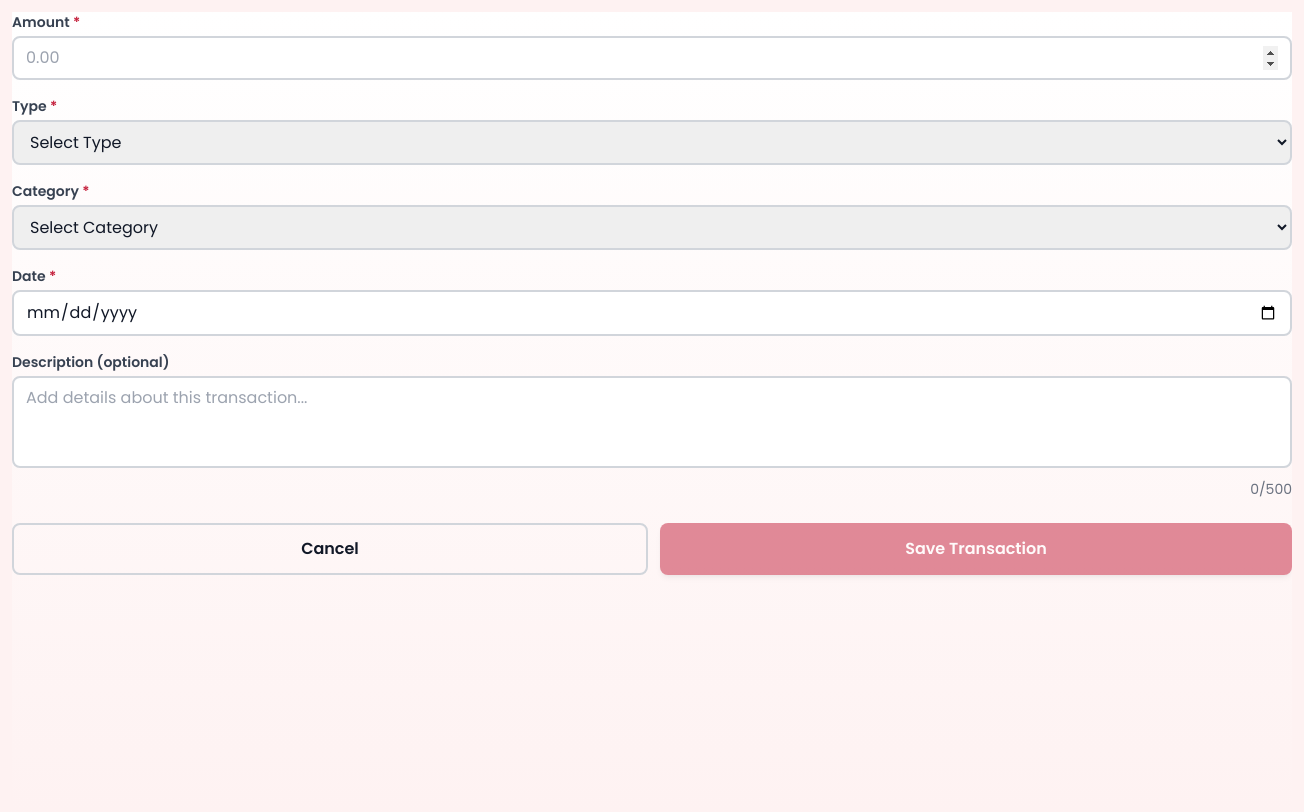
Test: TransactionForm › should enable submit button when form is valid
This screenshot has width=1304, height=812.
Fill amount
In the number field labelled "Amount *": (652, 58) left=12, top=36, right=1292, bottom=80, type "50.00"
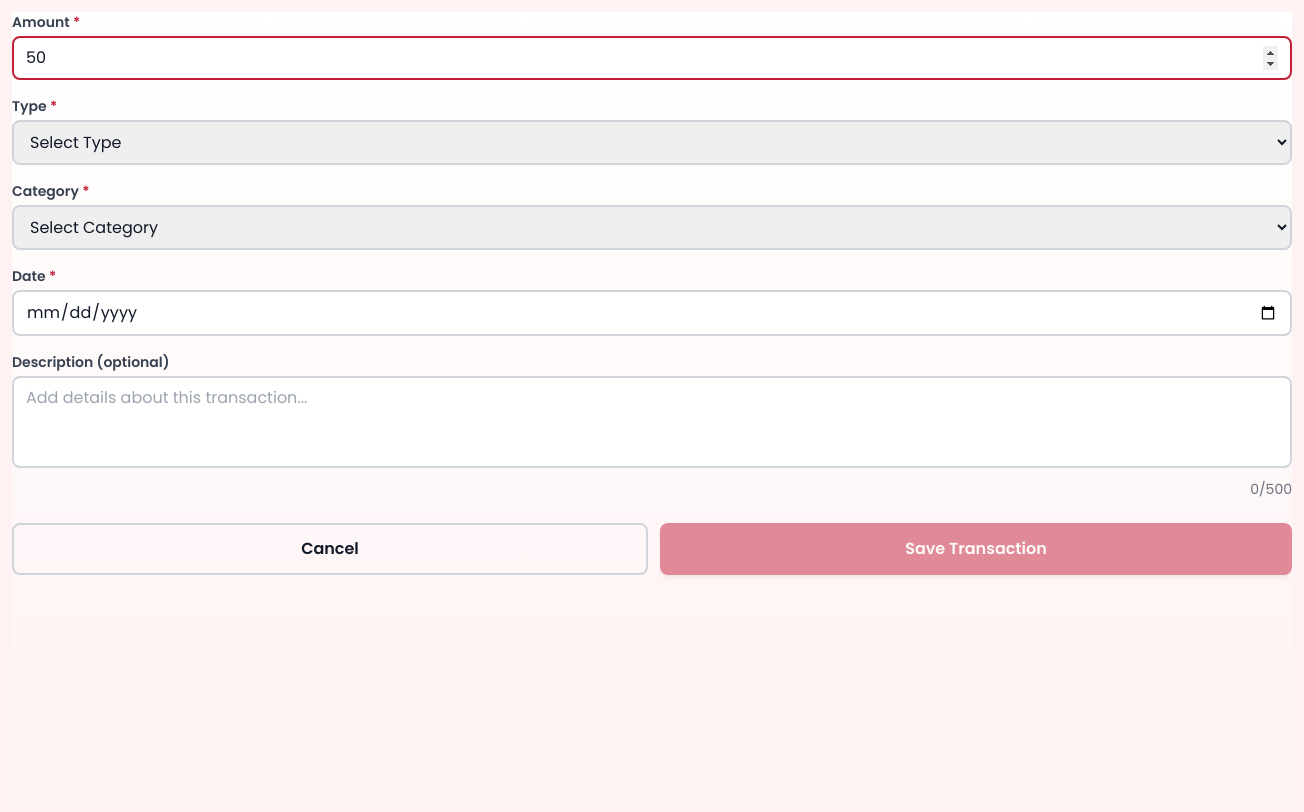
Select type
Select "Expense" in the dropdown labelled "Type *": (652, 142) left=12, top=120, right=1292, bottom=165
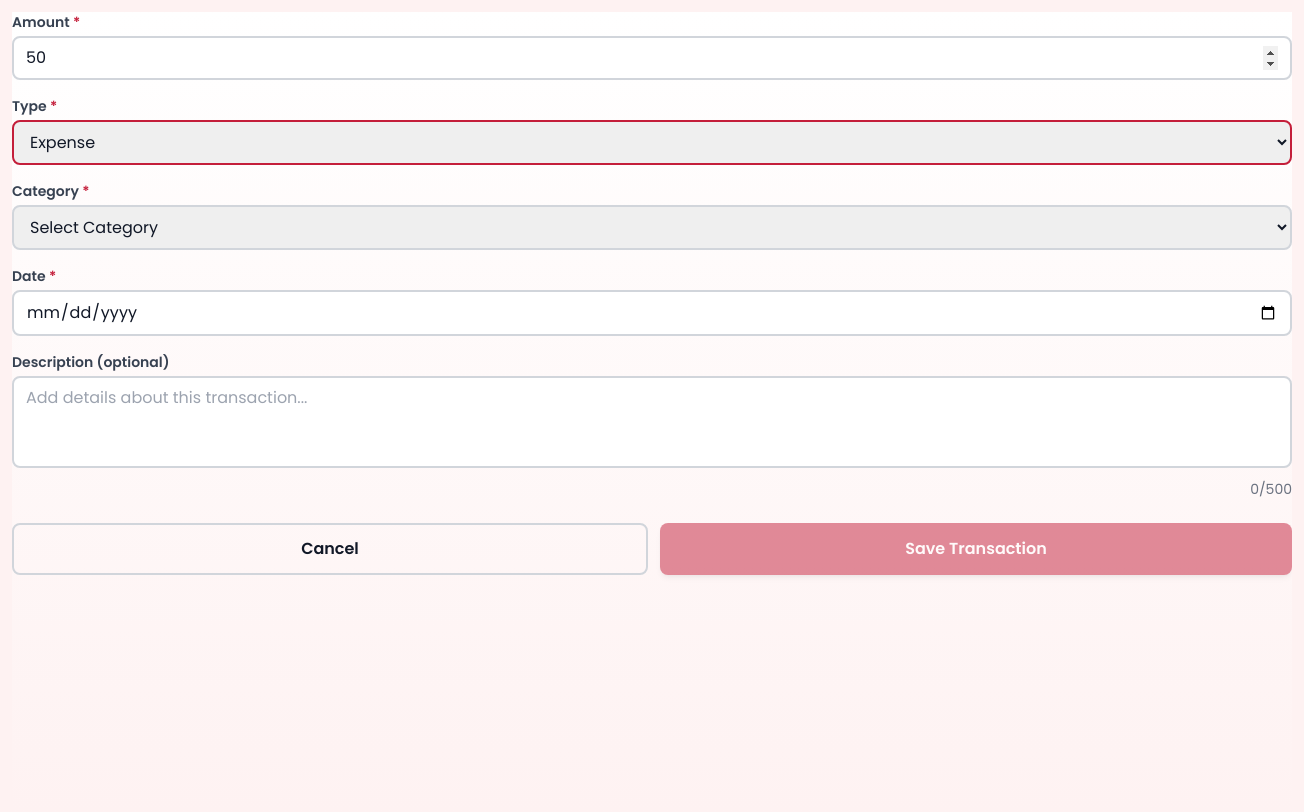
Select category
Select "Gifts" in the dropdown labelled "Category *": (652, 228) left=12, top=205, right=1292, bottom=250
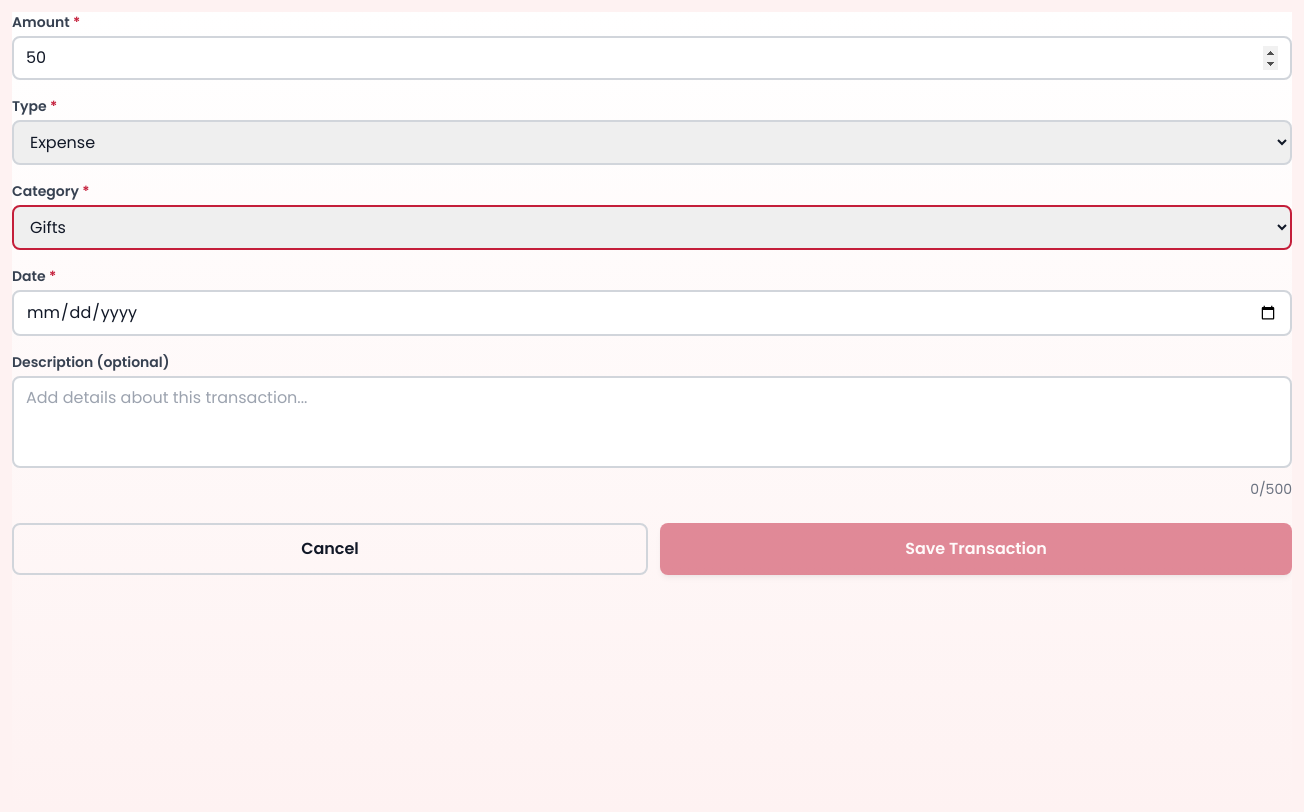
Select date
In the date field labelled "Date *": (652, 313) left=12, top=290, right=1292, bottom=336, type "2025-12-25"
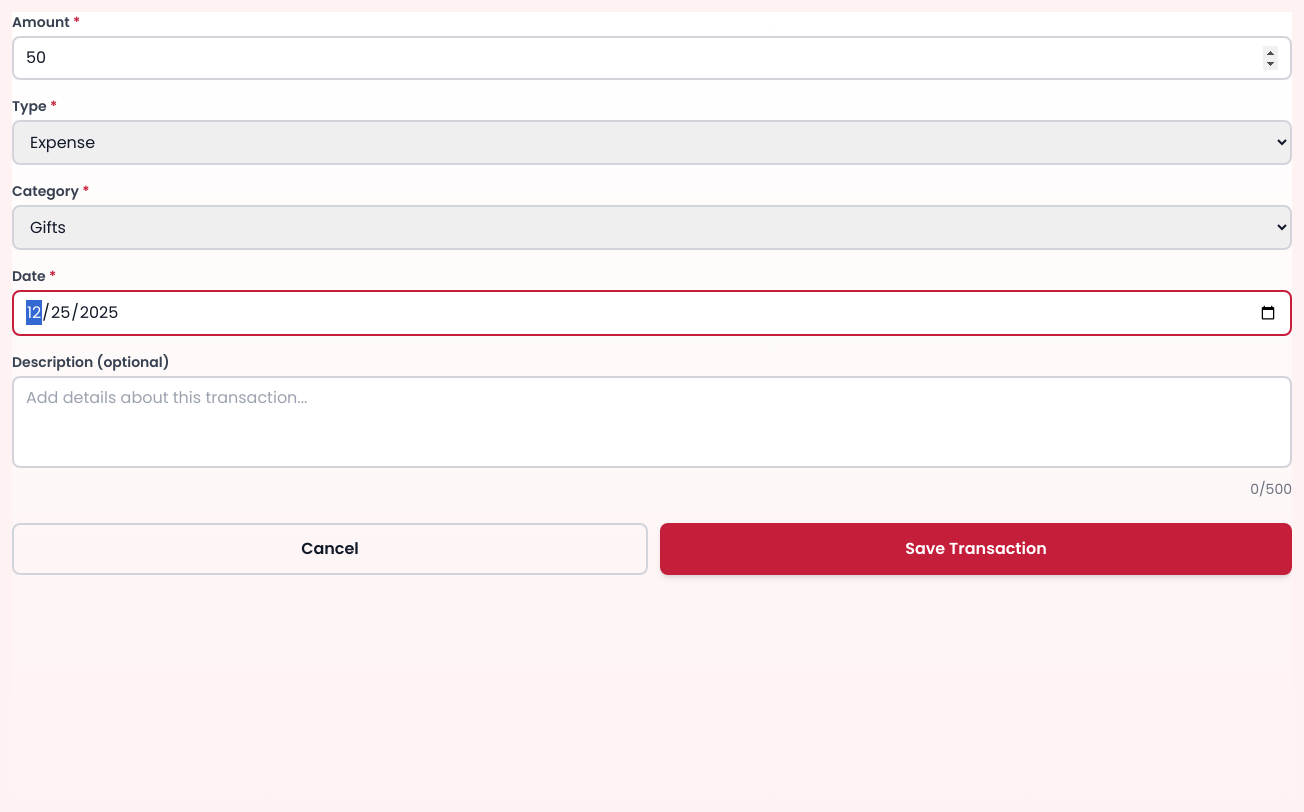
Expected: the button "Save Transaction" is enabled, left=660, top=523, right=1292, bottom=575
